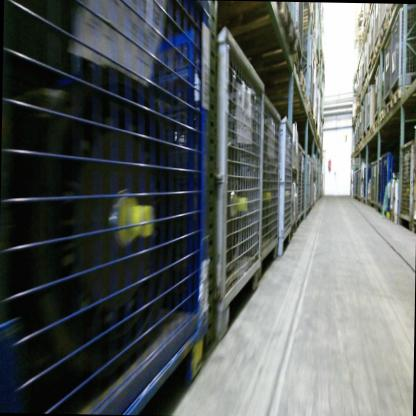pallet: (218, 3, 296, 58), (252, 41, 296, 77), (263, 64, 307, 97), (390, 83, 416, 114), (384, 98, 413, 120), (276, 95, 308, 112), (289, 104, 313, 121), (378, 21, 394, 39), (384, 4, 397, 24), (373, 39, 386, 58), (290, 219, 299, 240), (368, 55, 379, 69), (409, 215, 416, 235), (378, 108, 384, 126), (291, 169, 298, 184), (387, 212, 397, 222), (373, 117, 379, 131), (369, 123, 375, 136), (413, 164, 416, 184), (358, 140, 362, 150), (366, 127, 369, 139), (364, 131, 367, 141), (366, 198, 369, 205), (360, 198, 364, 203), (362, 138, 364, 145)
stillage: (0, 1, 215, 407), (199, 19, 269, 321), (259, 85, 283, 284), (390, 5, 416, 92), (277, 106, 292, 252), (395, 135, 413, 234), (294, 44, 313, 103), (380, 150, 398, 212), (285, 4, 305, 54), (383, 28, 394, 108), (365, 83, 379, 131), (374, 63, 385, 122), (300, 149, 308, 228), (297, 142, 303, 225), (376, 159, 383, 211), (368, 160, 375, 208), (306, 153, 311, 215), (361, 92, 367, 137), (362, 167, 369, 199), (359, 104, 363, 143), (374, 159, 377, 209), (309, 159, 312, 209), (355, 168, 359, 198), (358, 166, 361, 202), (357, 114, 360, 144), (354, 119, 357, 148), (353, 170, 356, 196)
